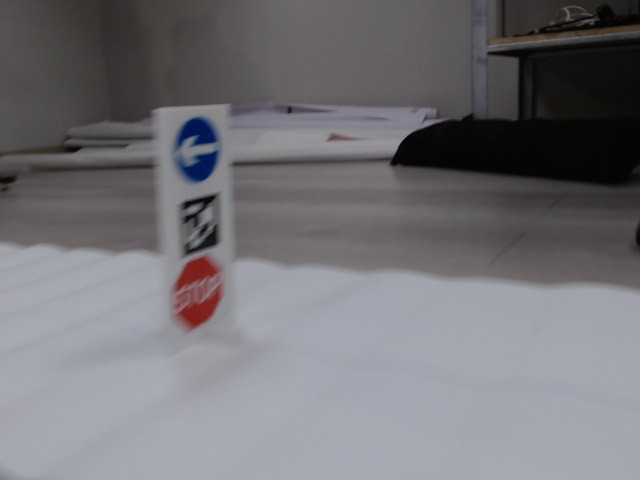Stop: (171, 258, 225, 325)
